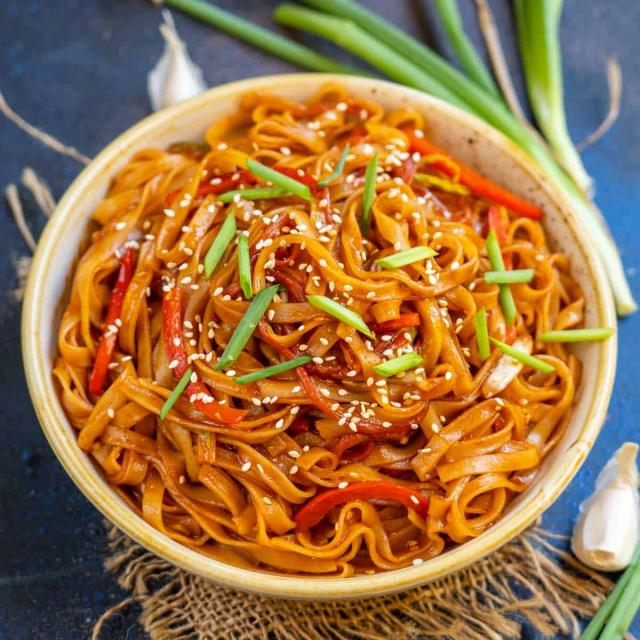noodle: (79, 106, 575, 567)
